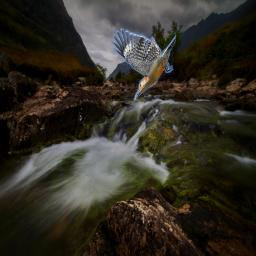Woodpecker: (111, 28, 176, 101)
